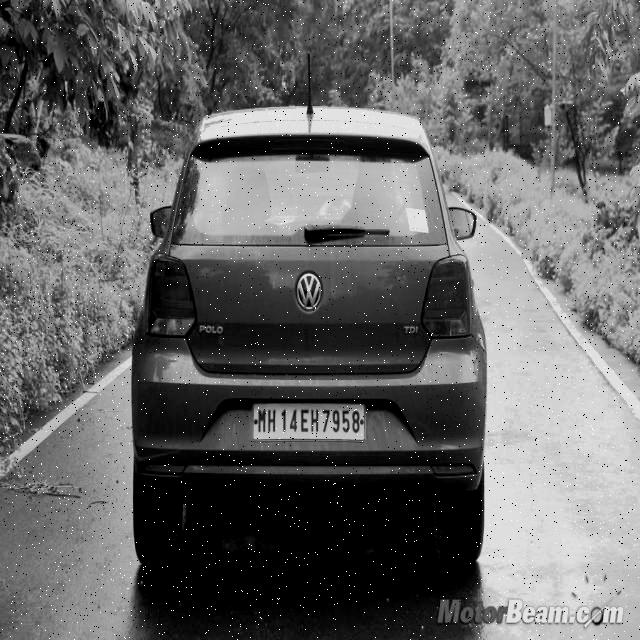Car: (114, 106, 514, 574)
